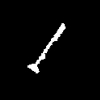half_double_crochet: (28, 23, 64, 72)
